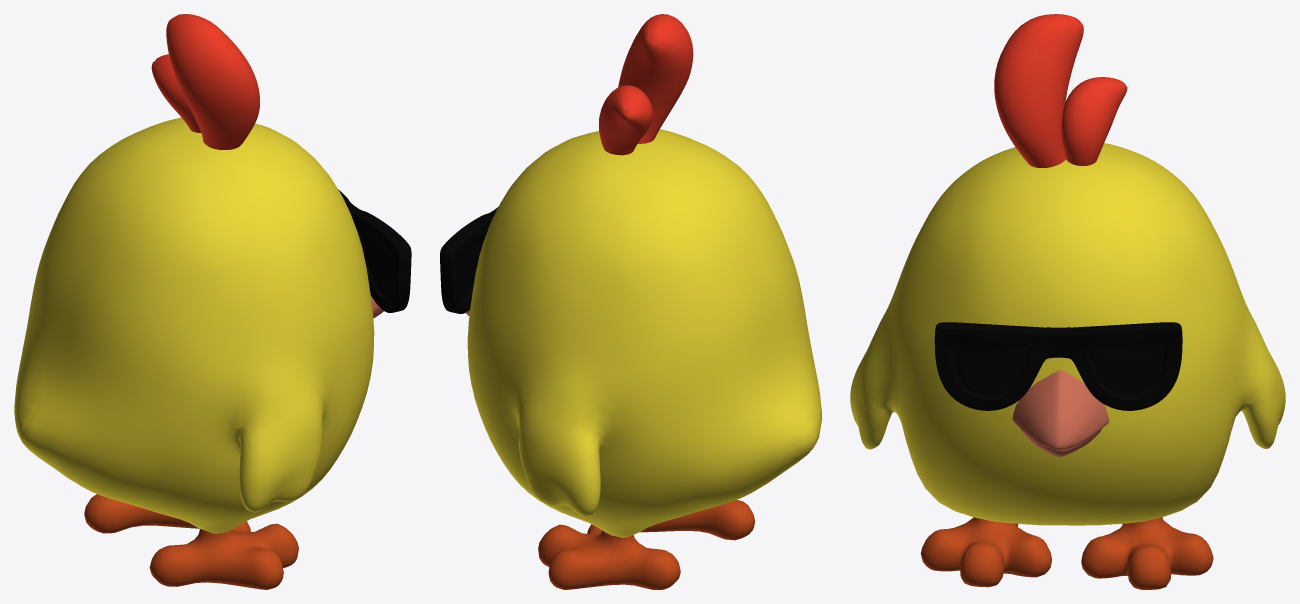
File: chick.fbx
The picture shows the model from 3 angles, left to right: view 1: azimuth 30°, elevation 25°; view 2: azimuth 150°, elevation 25°; view 3: azimuth 270°, elevation 25°; orthographic projection. The views are drawn at different scales.
Visible parts, largest first — view 1: Retopo_立方体.001, NURBS曲线.006, 立方体.002, 立方体.004; view 2: Retopo_立方体.001, 立方体.002, NURBS曲线.006, 立方体.004; view 3: Retopo_立方体.001, 立方体.004, NURBS曲线.006, 立方体.002, 锥体.001.
Boxes of the visible parts, box(x1,y1,x2,y2) form: Retopo_立方体.001: box(14, 117, 374, 533); NURBS曲线.006: box(151, 14, 259, 149); 立方体.002: box(84, 494, 298, 589); 立方体.004: box(338, 189, 411, 312); Retopo_立方体.001: box(467, 129, 821, 537); 立方体.002: box(538, 500, 755, 589); NURBS曲线.006: box(599, 14, 693, 155); 立方体.004: box(440, 207, 497, 313); Retopo_立方体.001: box(850, 143, 1285, 525); 立方体.004: box(934, 322, 1182, 410); NURBS曲线.006: box(994, 14, 1127, 167); 立方体.002: box(920, 517, 1213, 589); 锥体.001: box(1012, 370, 1109, 457).
Size of the model in its own units: 140 by 189 by 137.
